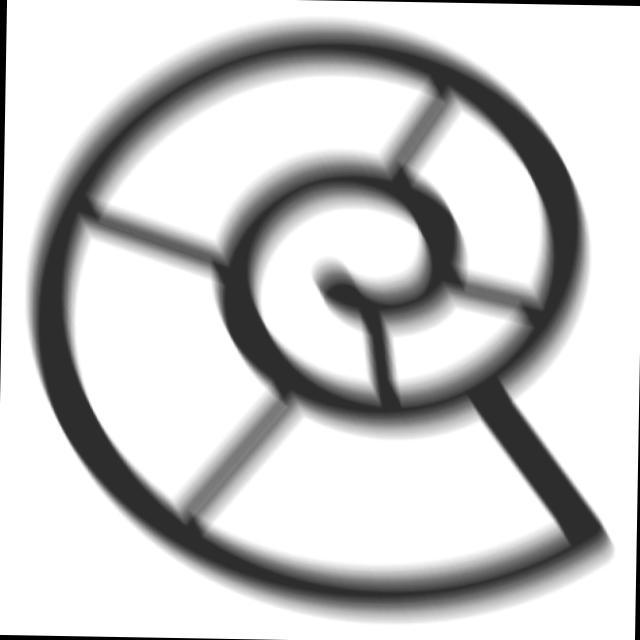fossil: (8, 4, 635, 621)
